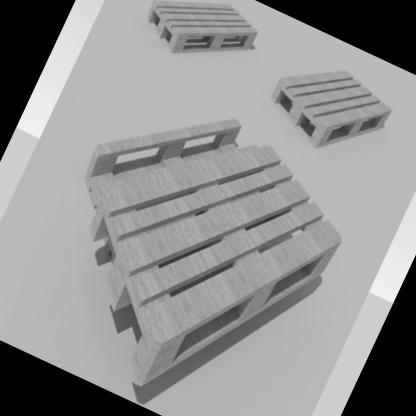BoxFace: (88, 141, 344, 389), (269, 69, 393, 151), (145, 0, 259, 58)
